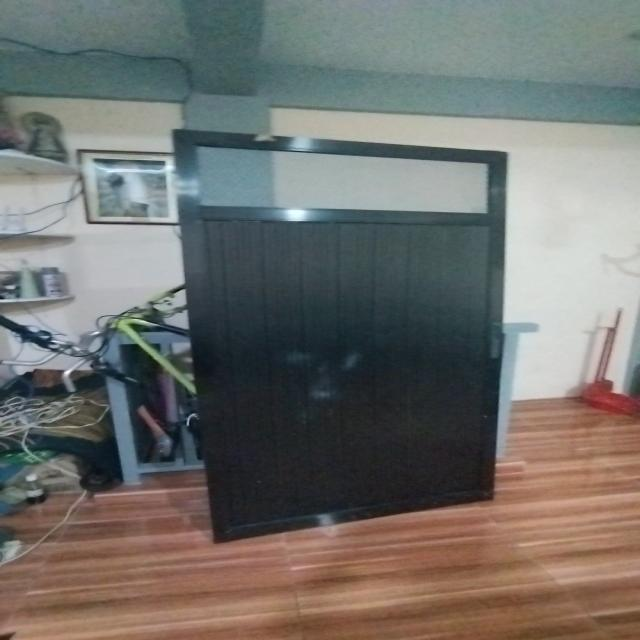door: (159, 128, 504, 548)
